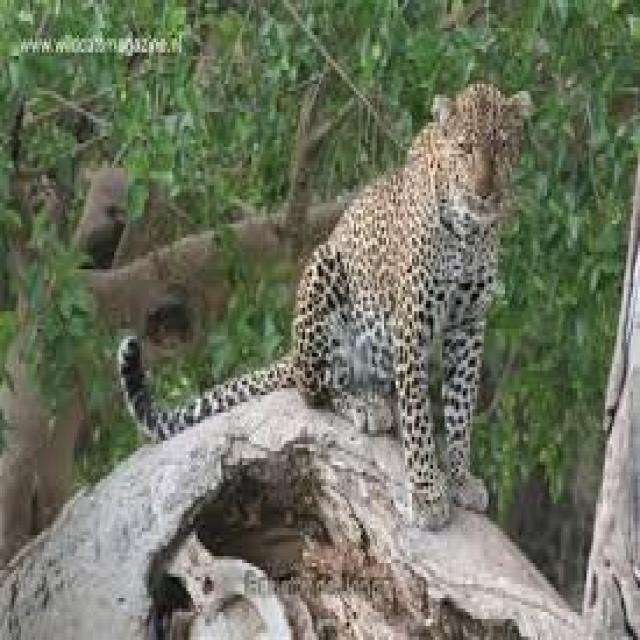Jaguar: (117, 81, 536, 528)
